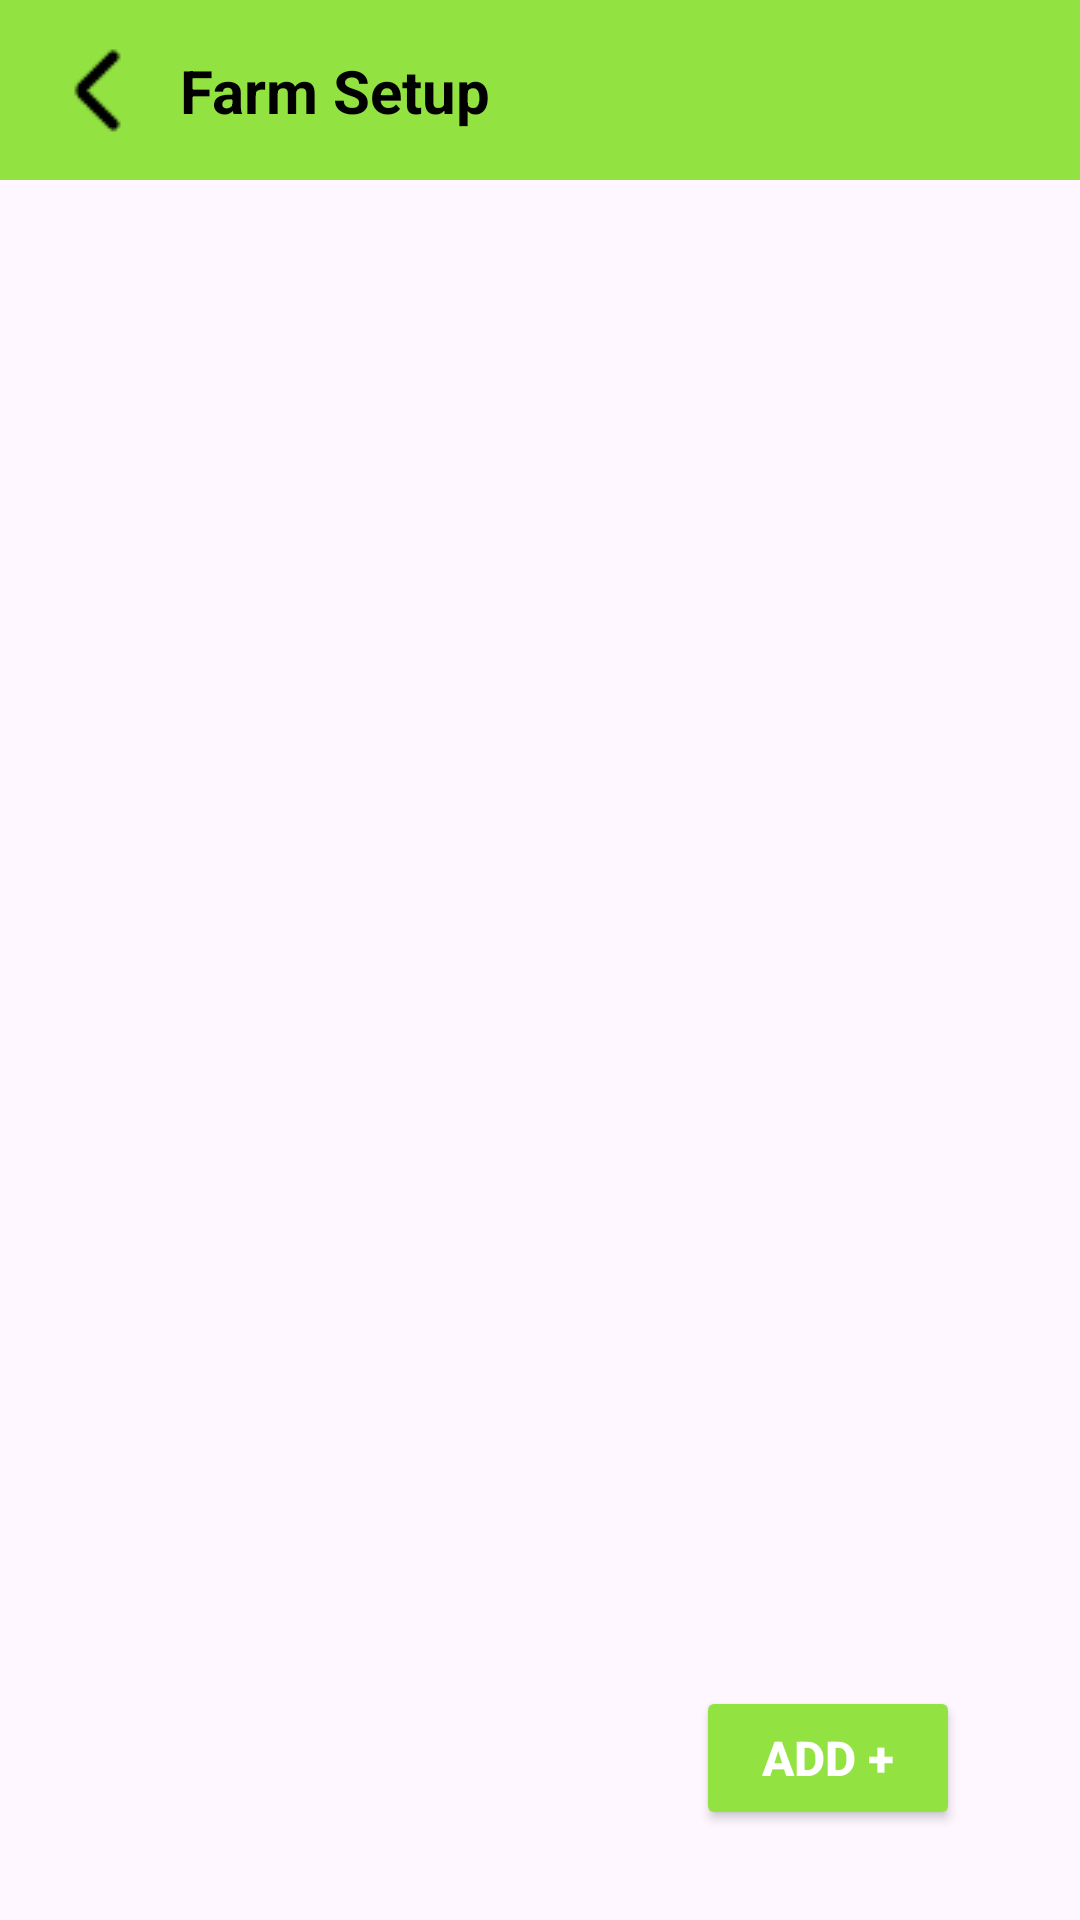

Where icons sit on this 1080*1920 app screen, as (x1, y1, x2, y2):
back arrow: (74, 49, 121, 132)
